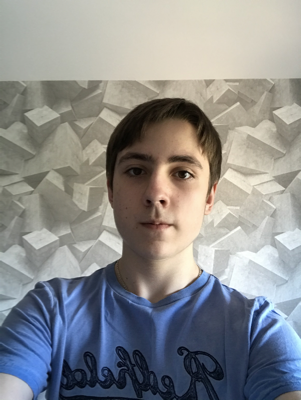without_mask: (109, 151, 206, 261)
